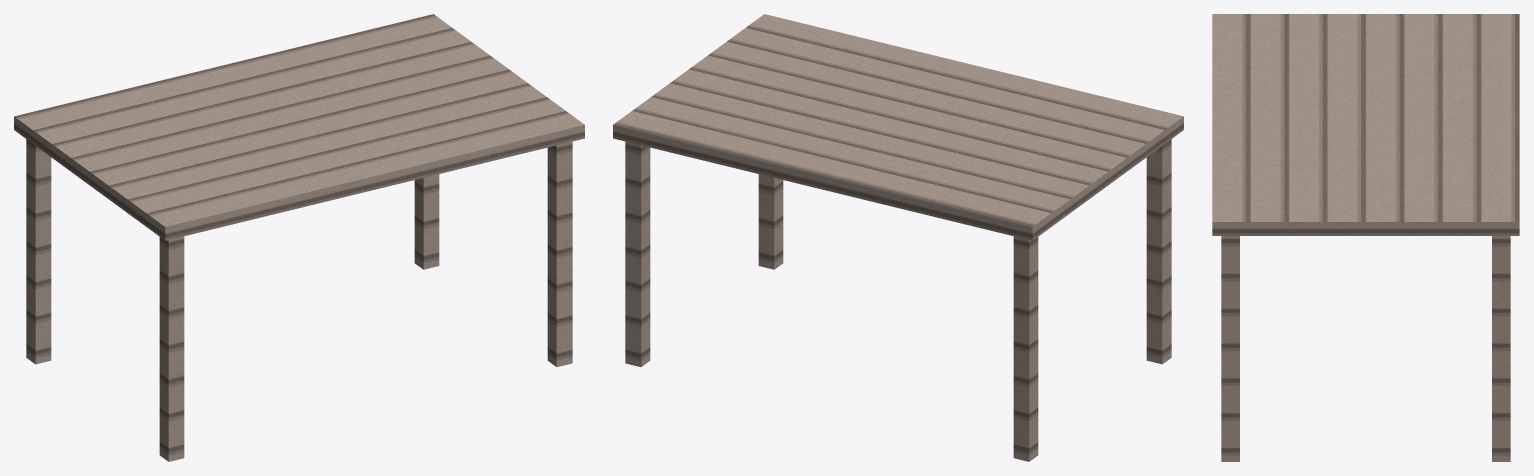
File: cutting_alterations_table.glb
3 views of the same model, side by side, from view 1: azimuth 30°, elevation 25°; view 2: azimuth 150°, elevation 25°; view 3: azimuth 270°, elevation 25° (orthographic).
Parts seen in each view (by area): view 1: cutting_alterations_table-col; view 2: cutting_alterations_table-col; view 3: cutting_alterations_table-col.
Part boxes in pixels (x1,y1,x2,y2): cutting_alterations_table-col: [14, 14, 584, 461]; cutting_alterations_table-col: [613, 14, 1183, 461]; cutting_alterations_table-col: [1212, 14, 1519, 461].
Size of the model in its own units: 1.6 by 0.875 by 1.
Materials: 1 (1 with a texture image).
